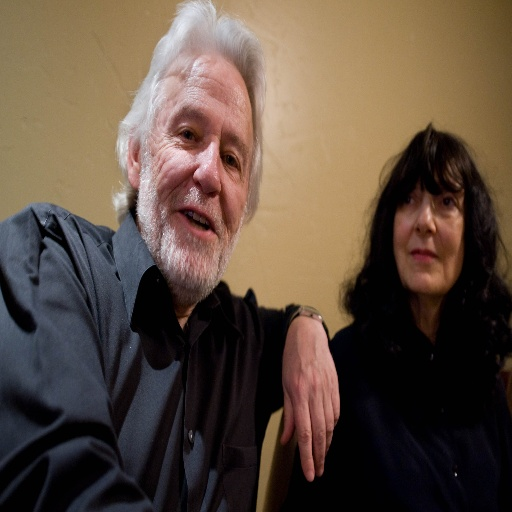hand: (273, 304, 348, 491)
